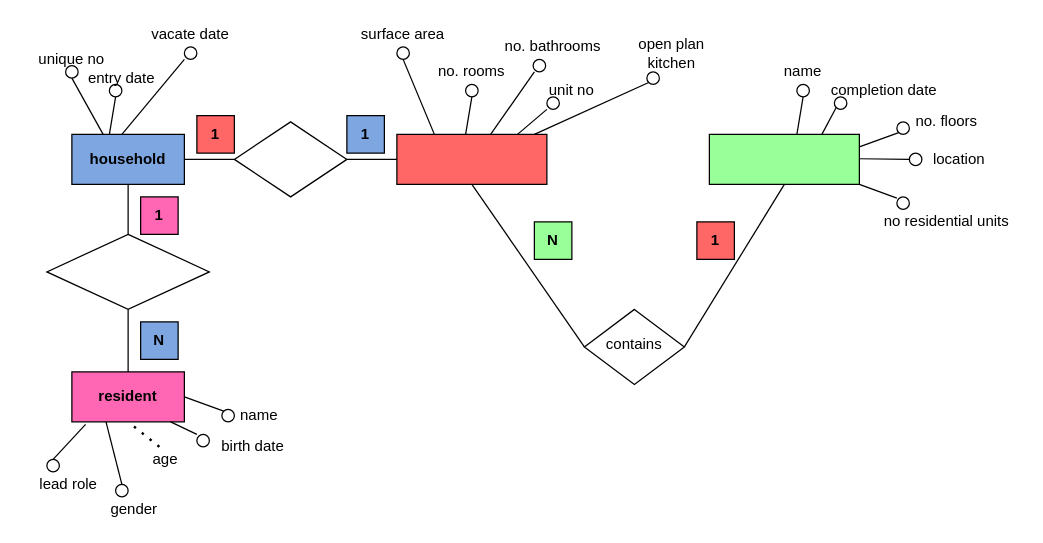
This 1043x543 diagram has some shape labels left out. The shapes that lost their labels are listed below. From the top down, each one's centre as x and y in pixels, then its label:
At (290,159): "lives in".
At (471,158): "residential unit".
At (783,158): "block".
At (127,271): "consists of".
